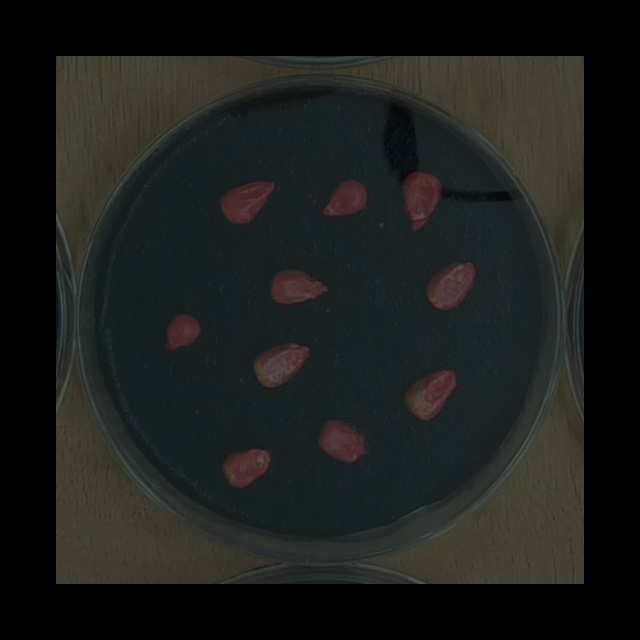Zea mays: (397, 362, 462, 427), (245, 335, 316, 394), (419, 253, 482, 316), (395, 165, 447, 238), (264, 261, 335, 313), (213, 175, 280, 229), (312, 410, 373, 466), (216, 441, 277, 492), (316, 173, 371, 224), (159, 305, 206, 356)
